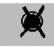not correct: (17, 5, 46, 38)
